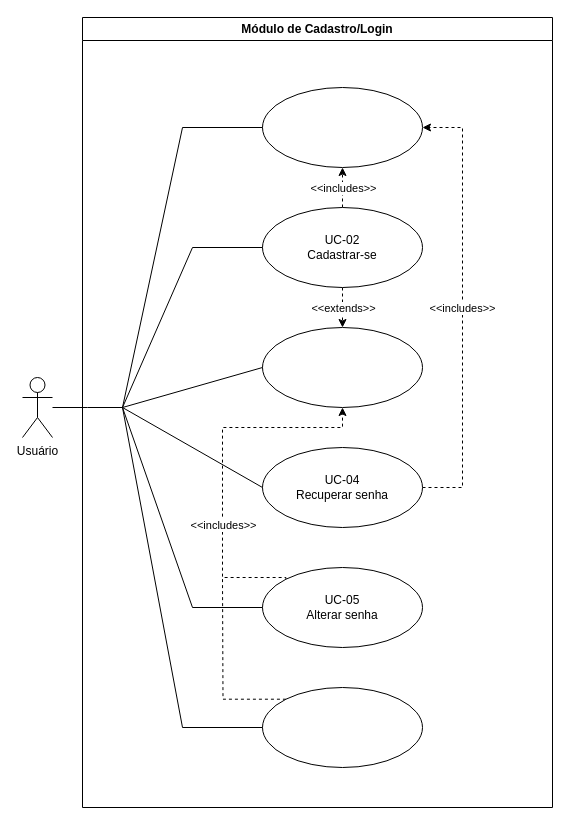
Some shapes in this 570 by 825 pixel diagram are drawn without their labels. The box of each missing label's shape, as (x1, y1, x2, y2) in pixels:
UC-01 Identificar-se: (262, 86, 422, 168)
UC-03 Logar -se: (262, 326, 422, 408)
UC-06 Modificar informações de cadastro: (262, 686, 422, 768)
